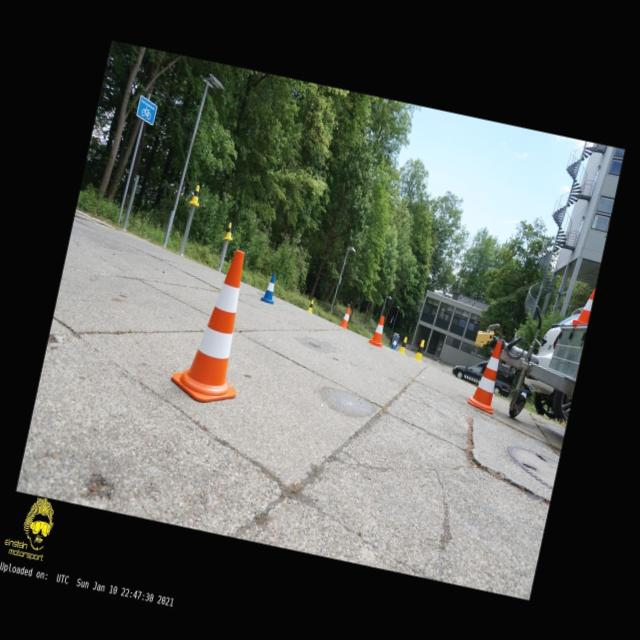blue_cone: (260, 272, 278, 304), (390, 336, 398, 349)
large_orange_cone: (168, 243, 264, 407), (467, 338, 508, 414)
orange_cone: (571, 284, 595, 328), (368, 314, 388, 346), (339, 306, 351, 328)
yellow_cone: (189, 183, 202, 206), (223, 222, 235, 240), (414, 339, 424, 360), (398, 336, 406, 353), (308, 299, 314, 312)
